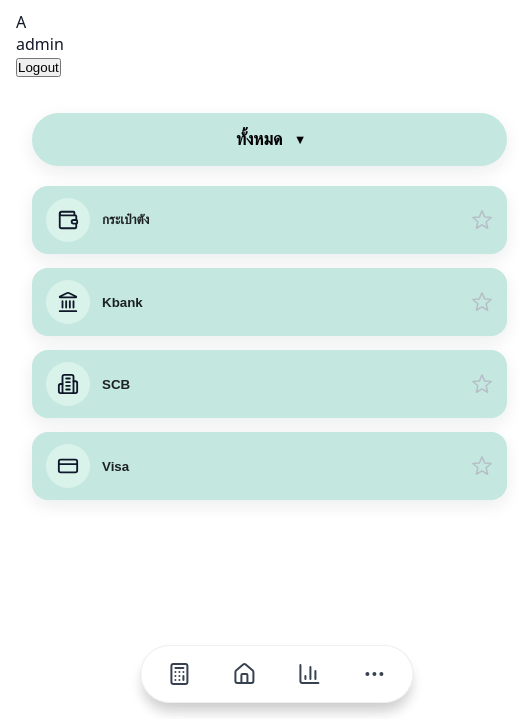
Scenario: AccountSelect Page › Filter › กรองตามประเภท - เงินสด
This screenshot has width=529, height=719.
Click the button with class "filter__button": (270, 140) 32,113 -> 507,166
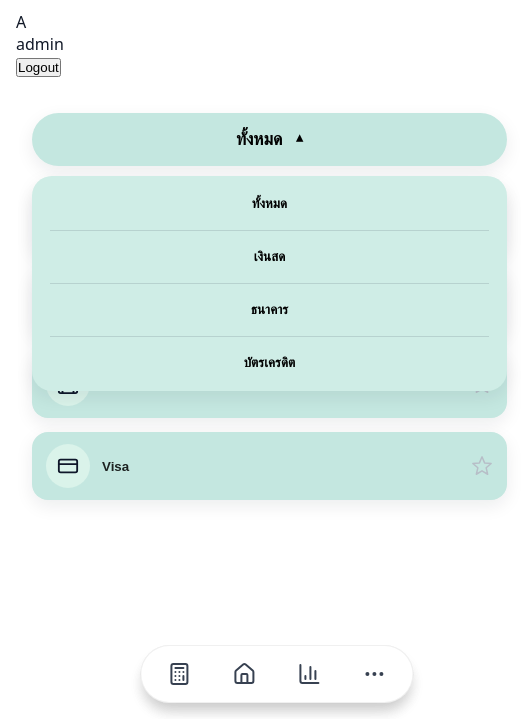
Click the option "เงินสด": (270, 257) 42,239 -> 497,275
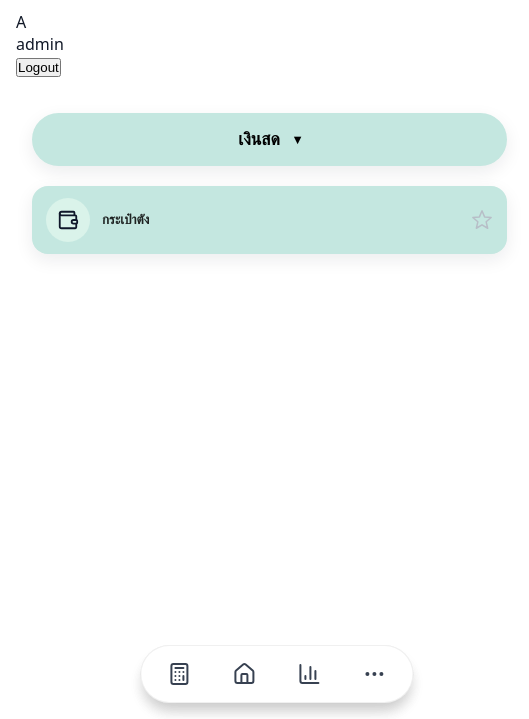
Expected: the text "กระเป๋าตัง" is shown, 102,212 -> 149,228
Now the number of buttons with class "mini" is 1, box 32,186 -> 507,254
